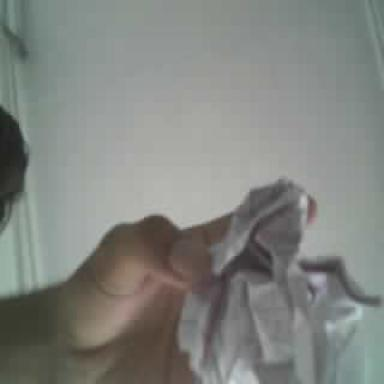paper: (179, 179, 378, 382)
